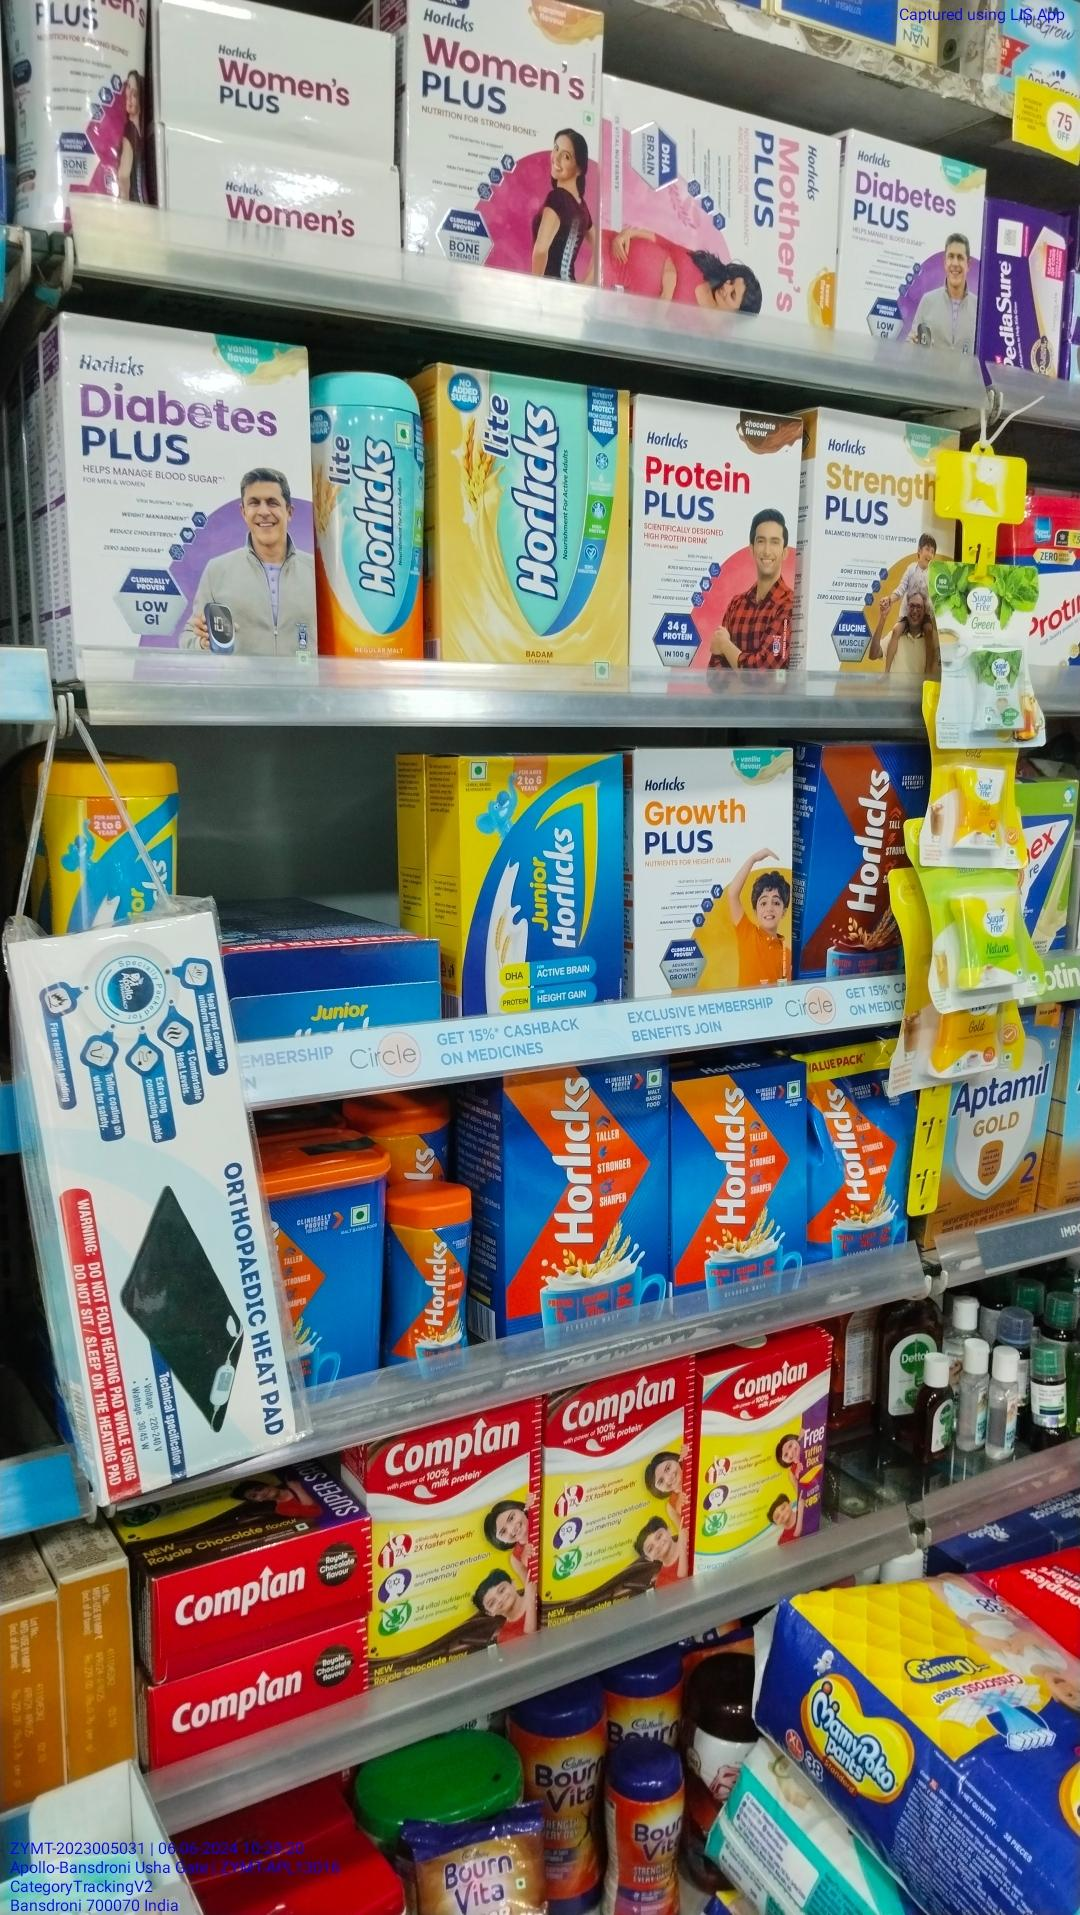BOURN_VITA_500_G_JAR: (605, 1760, 687, 1915)
COMPLAN_CREAMY_CLASSIC_500_G_PACK: (697, 1370, 830, 1547)
HORLICKS_LITE_REGULAR_MALT_500_GM_JAR: (313, 370, 424, 668)
HORLICK_CLASSIC_MALT_500_G_JAR: (392, 1201, 475, 1384)
HORLICK_CLASSIC_MALT_500_G_PACK: (503, 1077, 666, 1331), (672, 1077, 804, 1305)
